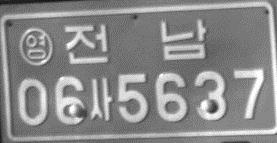0: (16, 76, 49, 126)
3: (193, 70, 226, 121)
5: (116, 72, 148, 123)
6: (53, 75, 86, 126), (154, 71, 187, 121)
7: (232, 68, 264, 119)
사: (88, 76, 113, 121)
영: (18, 27, 53, 67)
전남_D: (64, 18, 206, 65)
